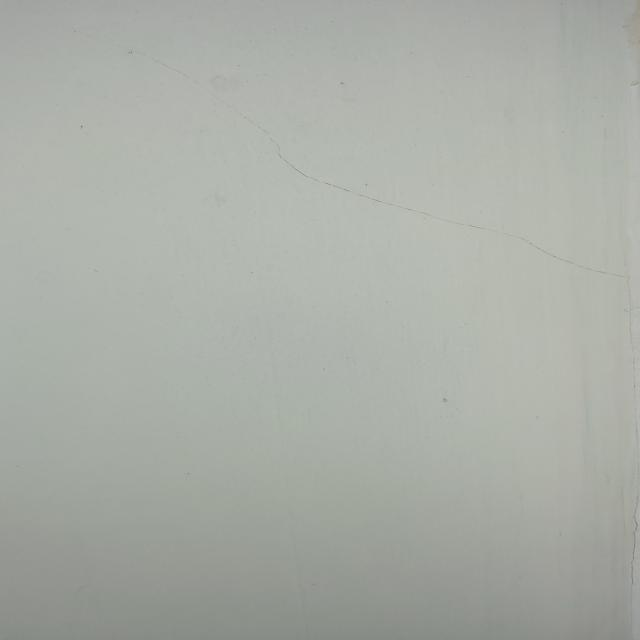Crack: (438, 194, 632, 290), (256, 128, 431, 228), (91, 26, 242, 132)
